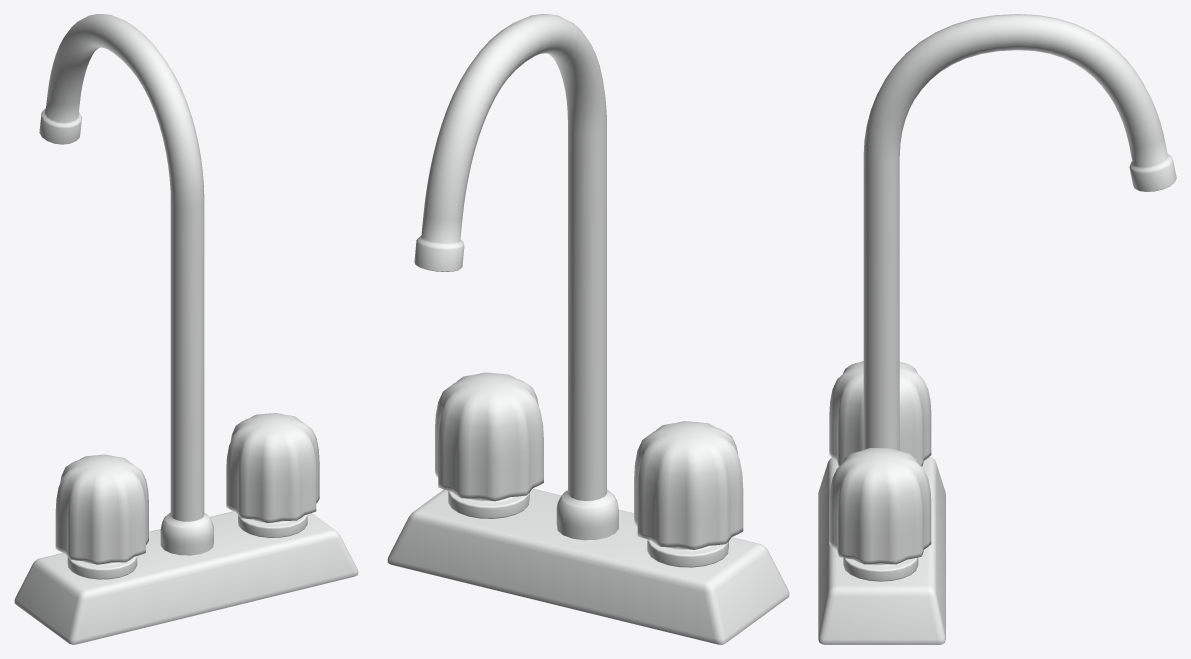
The model's file is Prop2.glb.
The picture shows the model from 3 angles, left to right: view 1: azimuth 30°, elevation 25°; view 2: azimuth 150°, elevation 25°; view 3: azimuth 270°, elevation 25°; orthographic projection. The views are drawn at different scales.
Visible parts, largest first — view 1: Prop2; view 2: Prop2; view 3: Prop2.
Boxes of the visible parts, x1,y1,x2,y2 form: Prop2: (14,14,358,644); Prop2: (387,14,789,644); Prop2: (818,14,1176,644).
Size of the model in its own units: 19.76 by 33.89 by 19.83.
Materials: 1 (1 with a texture image).
